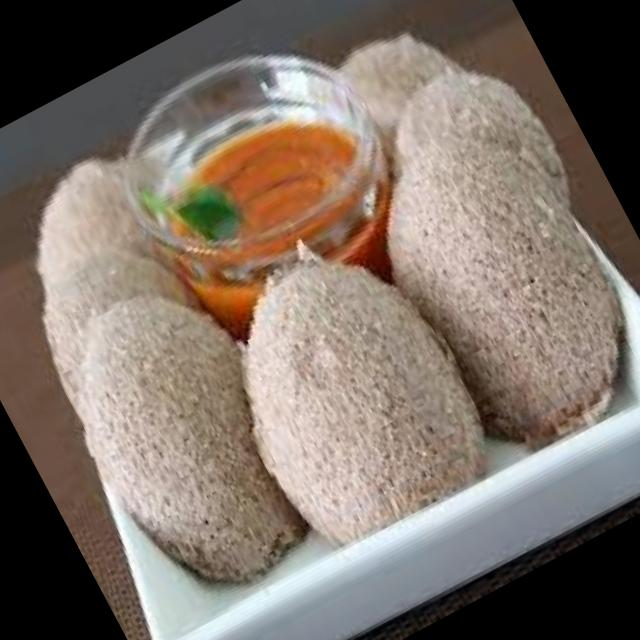idli: (189, 218, 509, 562), (348, 100, 640, 473), (35, 264, 338, 618), (364, 45, 587, 280), (16, 222, 230, 434), (0, 144, 183, 334), (334, 10, 489, 170)
